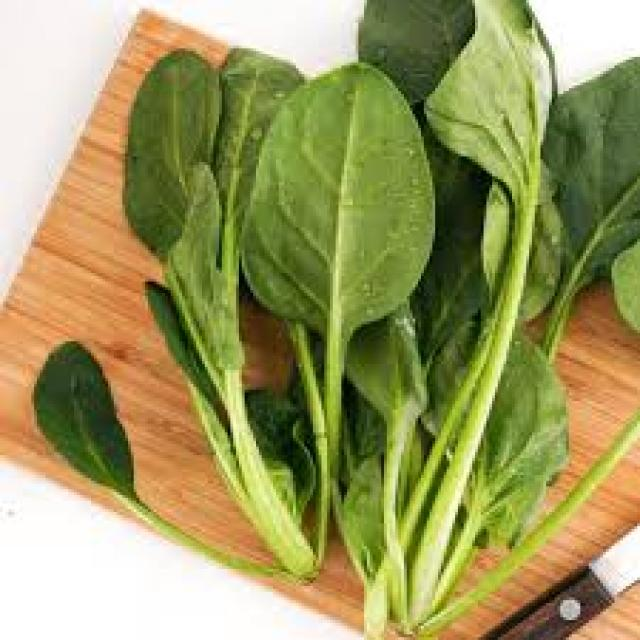spinach: (125, 0, 640, 639)
